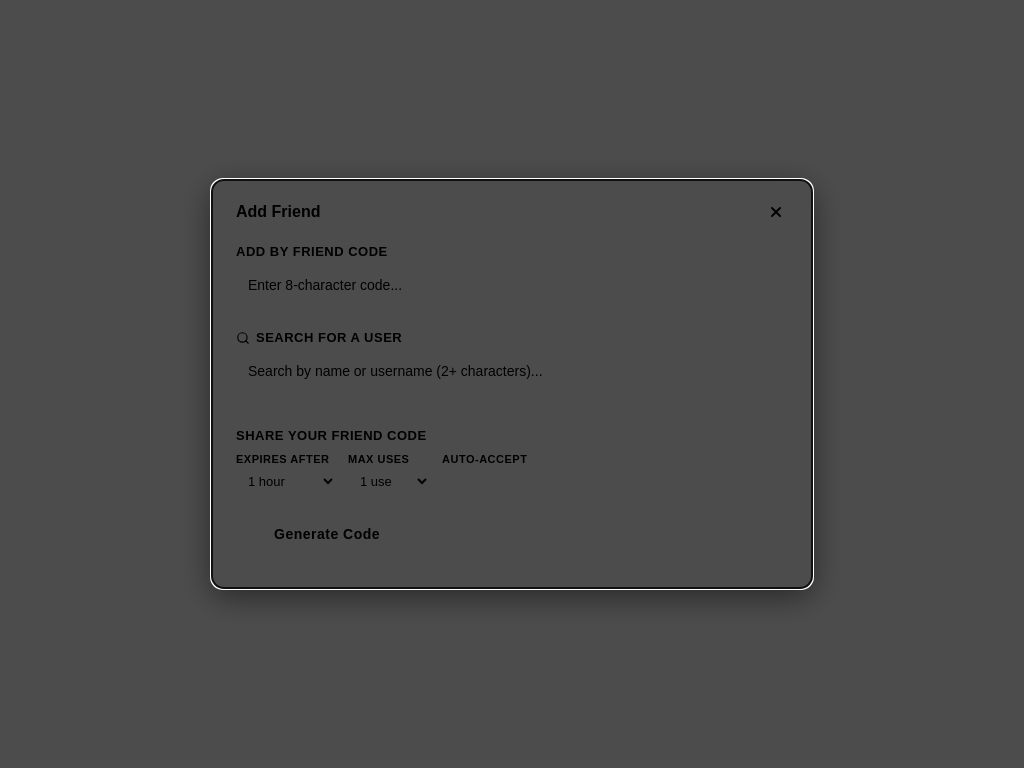
Test: AddFriendModal › shows preview with Send Friend Request button for valid code
Type "ABCD1234" into the field with placeholder "Enter 8-character code..." at (512, 285), box [236,269,788,301]
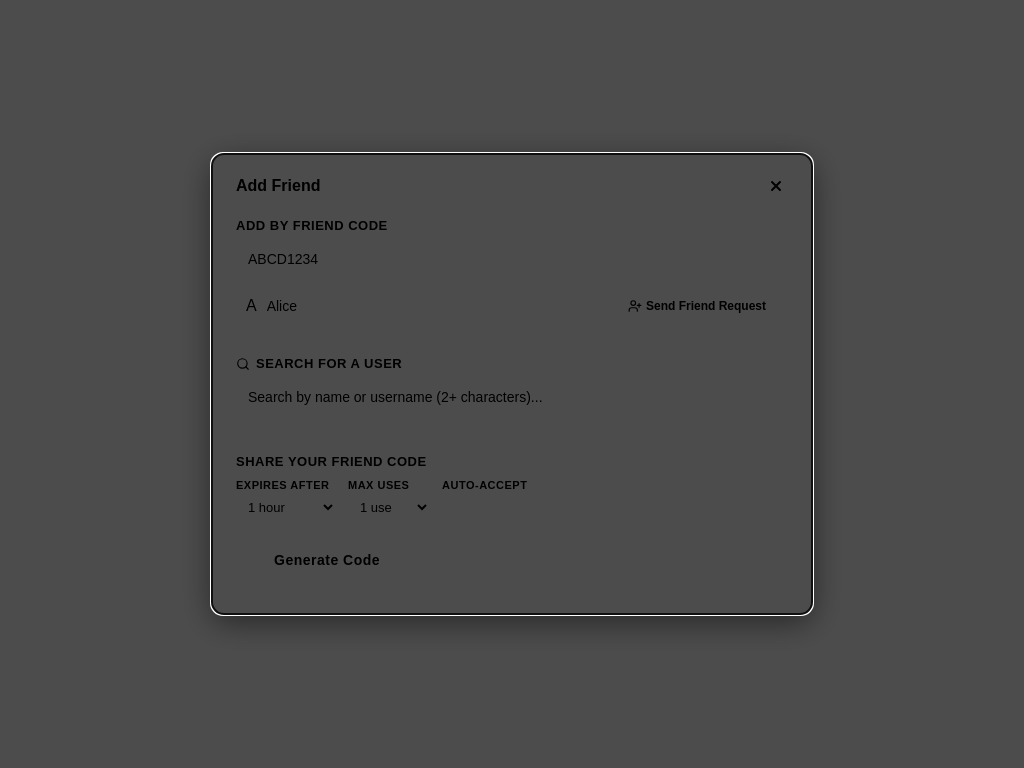
Result: the button "Send Friend Request" is shown at [616,293,778,319]
Result: the text "Alice" is shown at [267,298,297,314]
